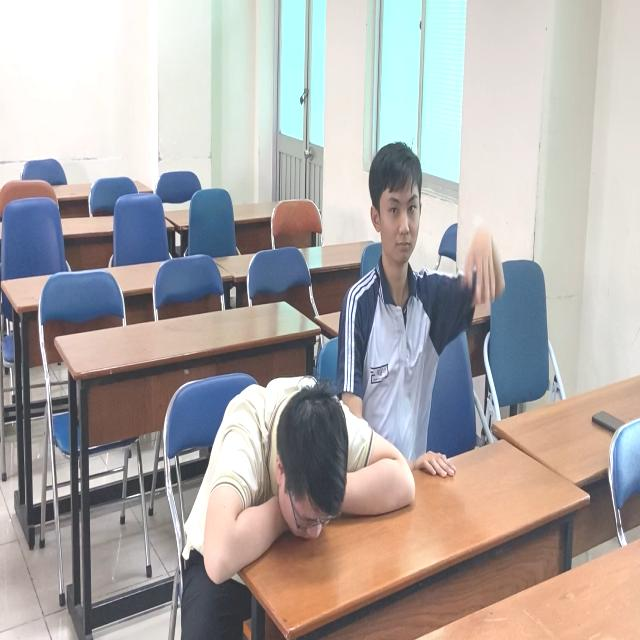sleep: (209, 369, 419, 576)
